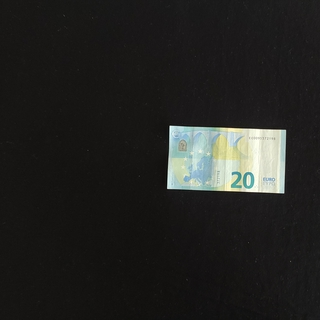20EUROBack: (166, 125, 286, 194)
